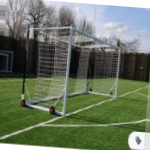goals: (24, 25, 121, 119)
